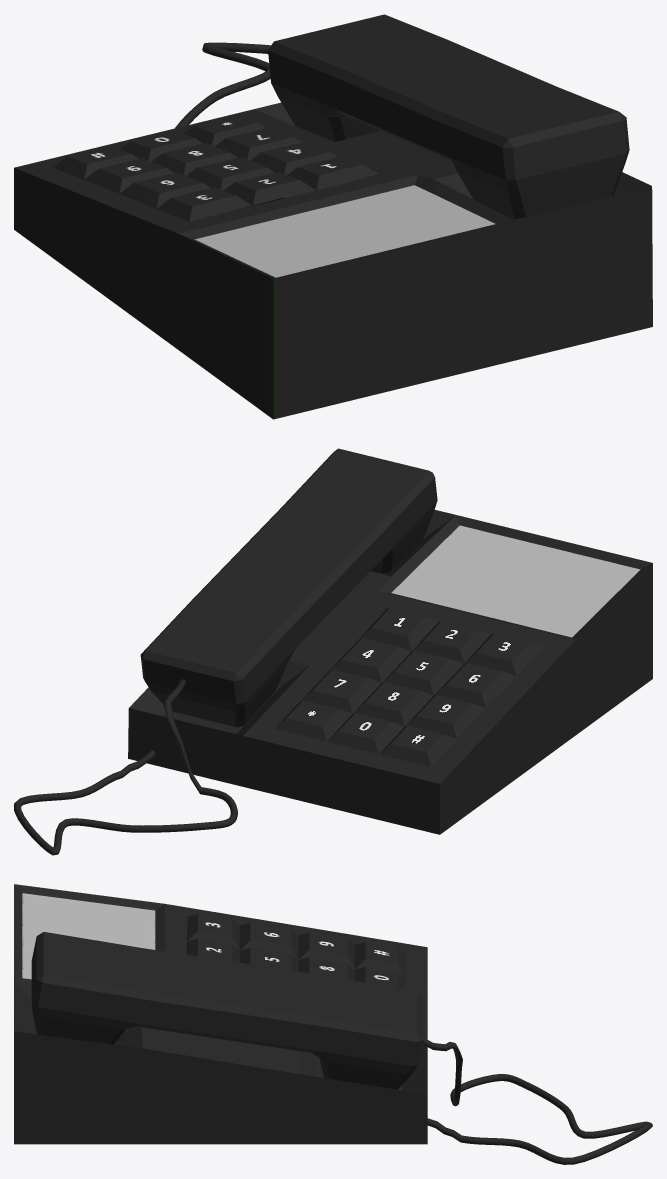
File: phone.FBX
3 renders of one model, top to bottom at view 1: azimuth 30°, elevation 25°; view 2: azimuth 150°, elevation 25°; view 3: azimuth 270°, elevation 25°, orthographic. The views are drawn at different scales.
Parts seen in each view (by area): view 1: Box001, Box002, Line001; view 2: Box001, Box002, Line001; view 3: Box001, Box002, Line001.
Boxes of the visible parts, <box> form: Box001: <box>14,102,652,419</box>; Box002: <box>268,14,629,219</box>; Line001: <box>175,42,270,128</box>; Box001: <box>128,510,652,834</box>; Box002: <box>140,448,437,727</box>; Line001: <box>14,679,237,855</box>; Box001: <box>14,884,427,1144</box>; Box002: <box>31,932,422,1089</box>; Line001: <box>422,1035,652,1164</box>.
Bounding box in the file's own units: 10.52 × 4.92 × 17.09.
Materials: 2 (2 with a texture image).
